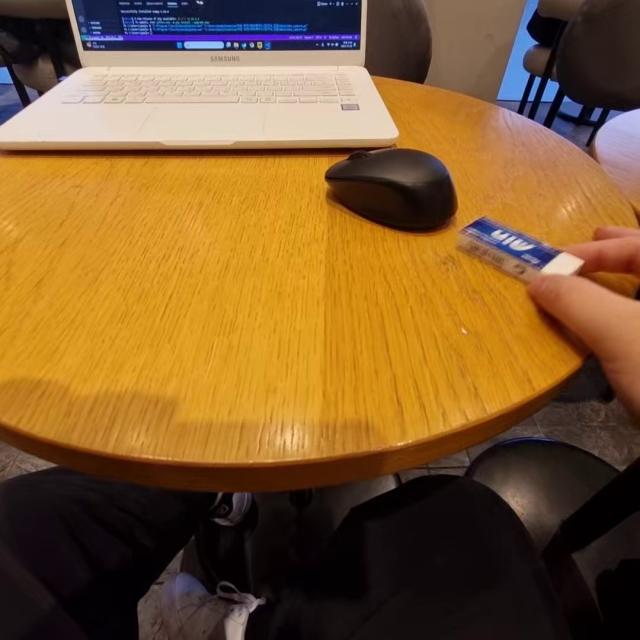eraser: (466, 212, 594, 287)
grab_eraser: (455, 206, 640, 406)
mouse: (307, 140, 463, 246)
